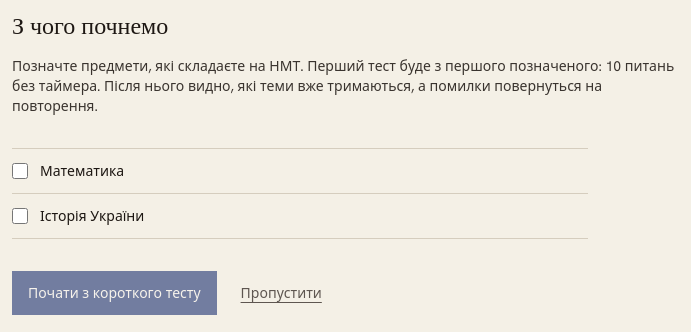
Test case: TodayList — the first screen › lets the learner skip, and then shows the ordinary empty state
The image size is (691, 332).
Click the button "Пропустити".
click(281, 293)  # box [241,283,322,303]
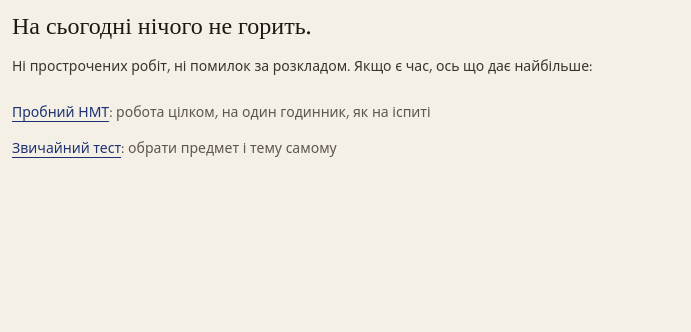
Check: the text "На сьогодні нічого не горить." is shown, box [12,8,312,40]
